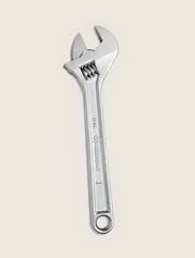Wrench: (49, 24, 145, 241)
